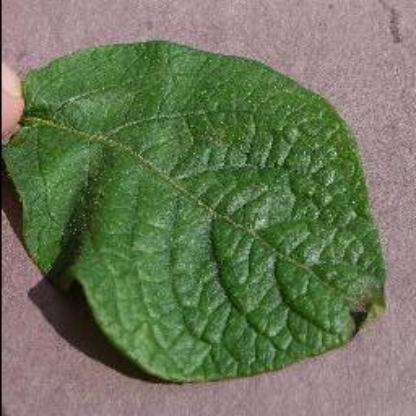Healthy-plant: (26, 39, 387, 383)
